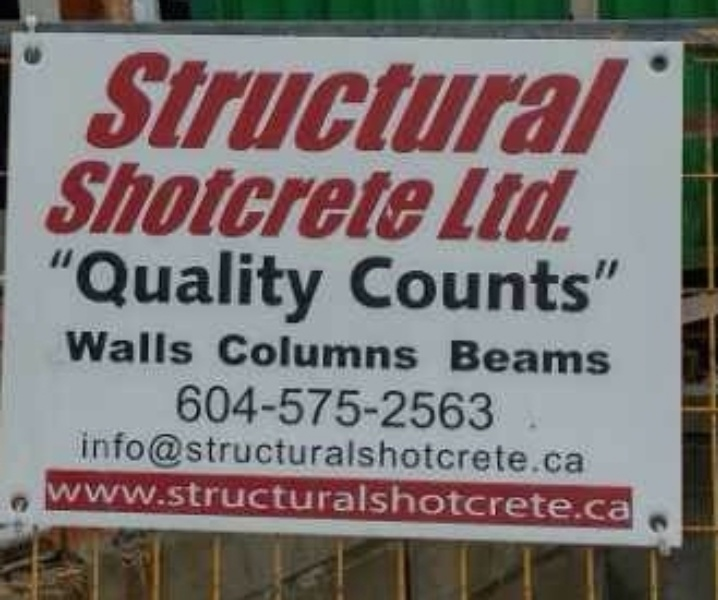text: (129, 51, 144, 155), (145, 51, 160, 155), (161, 51, 176, 155), (177, 51, 192, 155), (193, 51, 208, 155), (209, 51, 224, 155), (225, 51, 240, 155), (241, 51, 256, 155), (257, 51, 272, 155), (273, 51, 288, 155), (289, 51, 304, 155), (305, 51, 320, 155), (321, 51, 336, 155), (337, 51, 352, 155), (353, 51, 368, 155), (369, 51, 384, 155), (385, 51, 400, 155), (401, 51, 416, 155), (417, 51, 432, 155), (433, 51, 448, 155), (449, 51, 464, 155), (465, 51, 480, 155), (481, 51, 496, 155), (497, 51, 512, 155), (513, 51, 528, 155), (529, 51, 544, 155), (545, 51, 560, 155), (561, 51, 576, 155), (577, 51, 592, 155), (593, 51, 608, 155), (609, 51, 624, 155), (114, 51, 128, 155), (81, 153, 96, 243), (97, 153, 112, 243), (113, 153, 128, 243), (129, 153, 144, 243), (145, 153, 160, 243), (161, 153, 176, 243), (177, 153, 192, 243), (193, 153, 208, 243), (209, 153, 224, 243), (225, 153, 240, 243), (241, 153, 256, 243), (257, 153, 272, 243), (273, 153, 288, 243), (289, 153, 304, 243), (305, 153, 320, 243), (321, 153, 336, 243), (337, 153, 352, 243), (353, 153, 368, 243), (369, 153, 384, 243), (385, 153, 400, 243), (401, 153, 416, 243), (417, 153, 432, 243), (49, 241, 64, 328), (65, 241, 80, 328), (81, 241, 96, 328), (97, 241, 112, 328), (113, 241, 128, 328), (129, 241, 144, 328), (145, 241, 160, 328), (161, 241, 176, 328), (177, 241, 192, 328), (193, 241, 208, 328), (209, 241, 224, 328), (225, 241, 240, 328), (241, 241, 256, 328), (257, 241, 272, 328), (273, 241, 288, 328), (289, 241, 304, 328), (305, 241, 320, 328), (481, 164, 496, 245), (497, 164, 512, 245), (513, 164, 528, 245), (529, 164, 544, 245), (545, 164, 560, 245), (561, 164, 576, 245), (577, 164, 592, 245), (468, 164, 480, 245), (353, 254, 368, 315), (369, 254, 384, 315), (385, 254, 400, 315), (401, 254, 416, 315), (417, 254, 432, 315), (433, 254, 448, 315), (449, 254, 464, 315), (465, 254, 480, 315), (481, 254, 496, 315), (497, 254, 512, 315), (513, 254, 528, 315), (529, 254, 544, 315), (545, 254, 560, 315), (561, 254, 576, 315), (577, 254, 592, 315), (593, 254, 608, 315), (70, 153, 80, 243), (625, 51, 633, 155), (609, 254, 622, 315), (321, 241, 330, 328), (177, 382, 192, 430), (193, 382, 208, 430), (209, 382, 224, 430), (225, 382, 240, 430), (241, 382, 256, 430), (257, 382, 272, 430), (273, 382, 288, 430), (289, 382, 304, 430), (305, 382, 320, 430), (321, 382, 336, 430), (337, 382, 352, 430), (353, 382, 368, 430), (369, 382, 384, 430), (385, 382, 400, 430), (401, 382, 416, 430), (417, 382, 432, 430), (433, 382, 448, 430), (449, 382, 464, 430), (465, 382, 480, 430), (481, 382, 496, 430), (81, 428, 96, 476), (97, 428, 112, 476), (113, 428, 128, 476), (129, 428, 144, 476), (145, 428, 160, 476), (161, 428, 176, 476), (177, 428, 192, 476), (193, 428, 208, 476), (209, 428, 224, 476), (225, 428, 240, 476), (241, 428, 256, 476), (257, 428, 272, 476), (273, 428, 288, 476), (289, 428, 304, 476), (305, 428, 320, 476), (321, 428, 336, 476), (337, 428, 352, 476), (353, 428, 368, 476), (369, 428, 384, 476), (385, 428, 400, 476), (401, 428, 416, 476), (417, 428, 432, 476), (433, 428, 448, 476), (449, 428, 464, 476), (465, 428, 480, 476), (481, 428, 496, 476), (497, 428, 512, 476), (513, 428, 528, 476), (529, 428, 544, 476), (545, 428, 560, 476), (561, 428, 576, 476), (49, 474, 64, 520), (65, 474, 80, 520), (81, 474, 96, 520), (97, 474, 112, 520), (113, 474, 128, 520), (129, 474, 144, 520), (145, 474, 160, 520), (161, 474, 176, 520), (177, 474, 192, 520), (193, 474, 208, 520), (209, 474, 224, 520), (225, 474, 240, 520), (241, 474, 256, 520), (257, 474, 272, 520), (273, 474, 288, 520), (289, 474, 304, 520), (305, 474, 320, 520), (321, 474, 336, 520), (337, 474, 352, 520), (353, 474, 368, 520), (369, 474, 384, 520), (385, 474, 400, 520), (401, 474, 416, 520), (417, 474, 432, 520), (433, 474, 448, 520), (449, 474, 464, 520), (465, 474, 480, 520), (481, 474, 496, 520), (497, 474, 512, 520), (513, 474, 528, 520), (529, 474, 544, 520), (545, 474, 560, 520), (561, 474, 576, 520), (577, 474, 592, 520), (593, 474, 608, 520), (609, 474, 624, 520), (65, 323, 80, 367), (81, 323, 96, 367), (97, 323, 112, 367), (113, 323, 128, 367), (129, 323, 144, 367), (145, 323, 160, 367), (161, 323, 176, 367), (177, 323, 192, 367), (401, 330, 417, 371), (577, 428, 590, 476), (225, 330, 240, 371), (241, 330, 256, 371), (257, 330, 272, 371), (273, 330, 288, 371), (289, 330, 304, 371), (305, 330, 320, 371), (321, 330, 336, 371), (337, 330, 352, 371), (353, 330, 368, 371), (369, 330, 384, 371), (385, 330, 400, 371), (449, 339, 464, 378), (465, 339, 480, 378), (481, 339, 496, 378), (497, 339, 512, 378), (513, 339, 528, 378), (529, 339, 544, 378), (545, 339, 560, 378), (561, 339, 576, 378), (577, 339, 592, 378), (593, 339, 608, 378), (345, 254, 352, 315), (214, 330, 224, 371), (433, 153, 437, 243), (593, 164, 596, 245), (44, 474, 48, 520), (625, 474, 629, 520), (609, 339, 612, 378), (193, 323, 195, 367), (175, 382, 176, 430), (79, 428, 80, 476)
